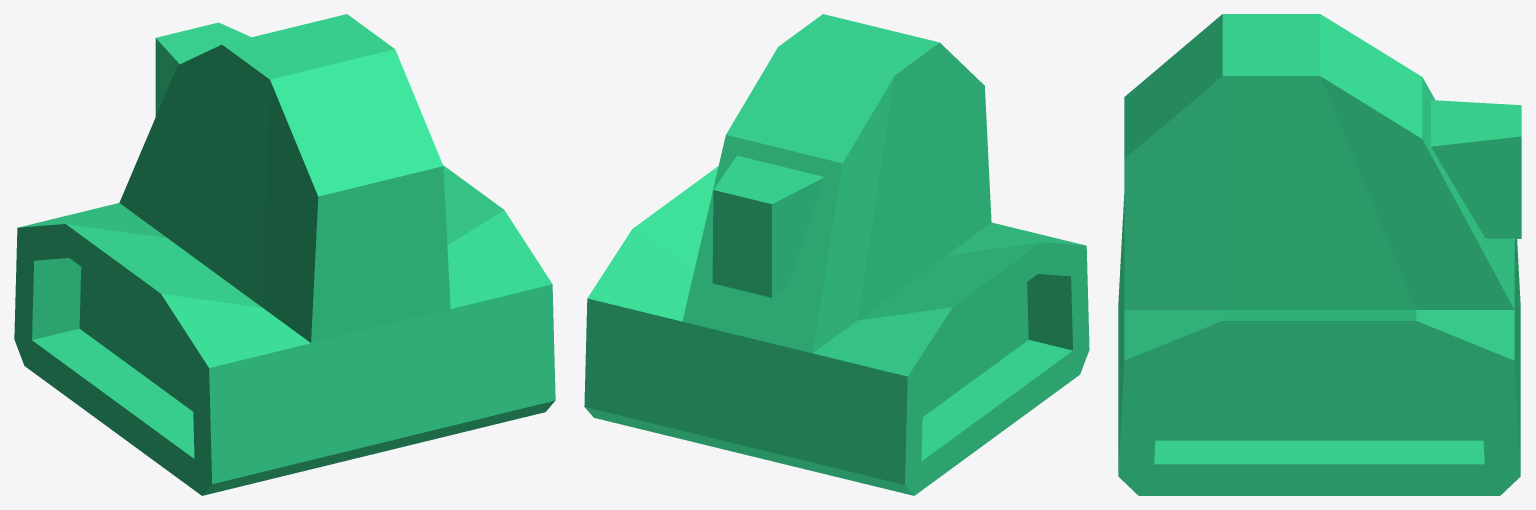
File: Sponge.fbx
3 views of the same model, side by side, from view 1: azimuth 30°, elevation 25°; view 2: azimuth 150°, elevation 25°; view 3: azimuth 270°, elevation 25° (orthographic). The views are drawn at different scales.
Visible parts, largest first — view 1: Sponge, Sponge.001; view 2: Sponge, Sponge.001; view 3: Sponge.001, Sponge.
Part boxes in pixels (x1=…): Sponge: x1=14, y1=165, x2=555, y2=495; Sponge.001: x1=119, y1=14, x2=450, y2=342; Sponge: x1=584, y1=166, x2=1089, y2=495; Sponge.001: x1=682, y1=14, x2=991, y2=353; Sponge.001: x1=1124, y1=14, x2=1521, y2=309; Sponge: x1=1118, y1=195, x2=1520, y2=495.
Bounding box in the file's own units: 2000 × 2000 × 2000.
